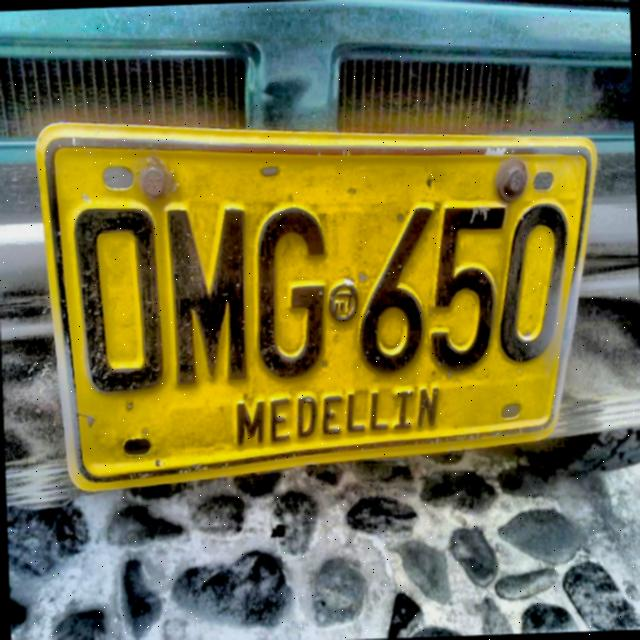plate: (43, 141, 592, 481)
